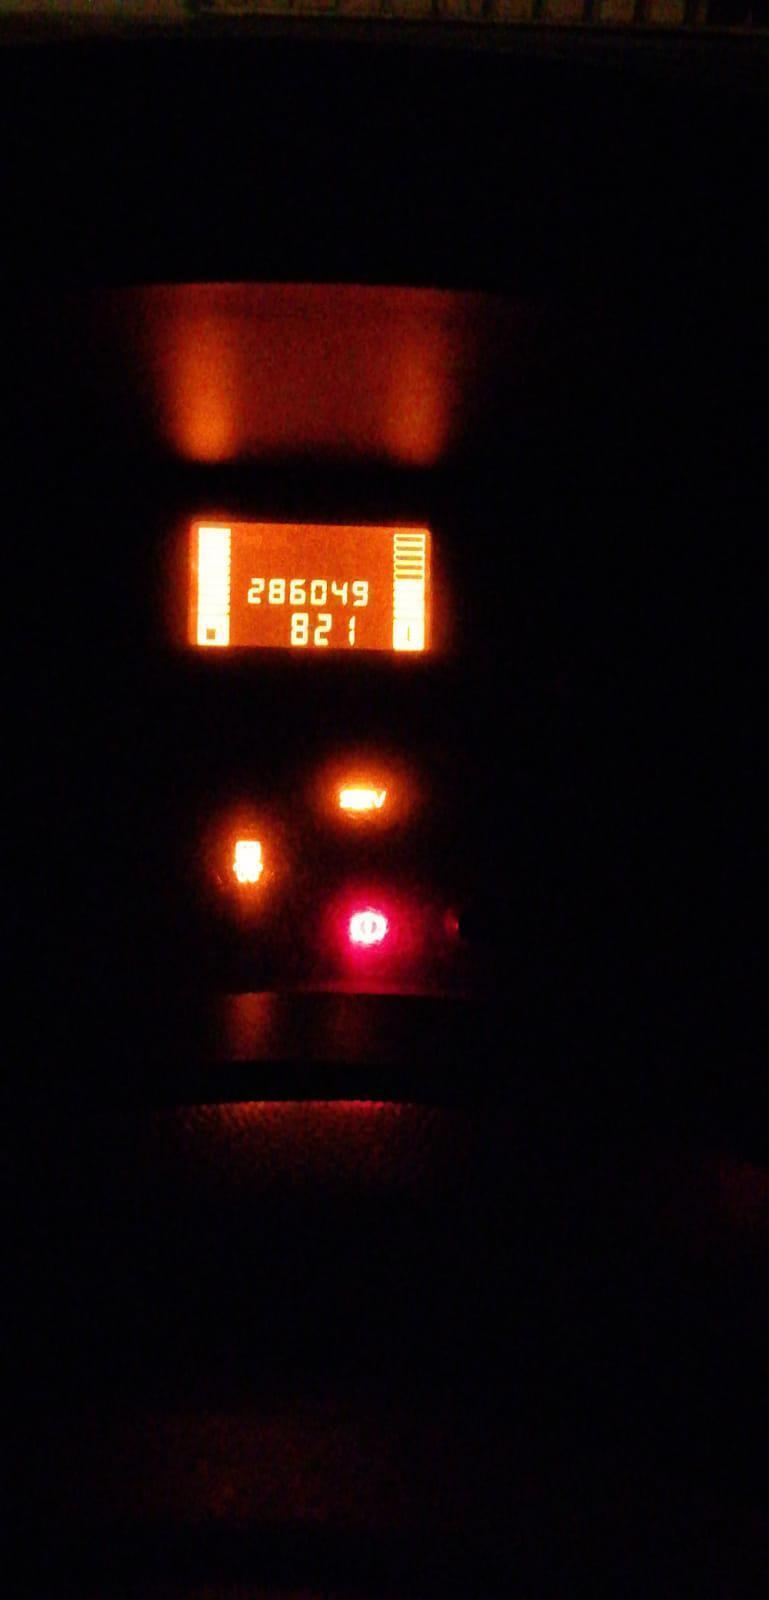0: (309, 579, 327, 605)
1: (347, 614, 356, 646)
2: (312, 612, 332, 646), (246, 577, 265, 604)
4: (330, 579, 348, 606)
6: (288, 578, 306, 605)
8: (289, 611, 309, 646), (267, 578, 285, 604)
9: (351, 580, 368, 607)
odometer: (185, 518, 430, 654)
